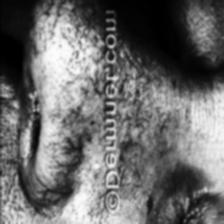Non-Cancerous Skin Condition: (35, 4, 101, 224), (132, 83, 170, 200), (123, 44, 151, 72)
